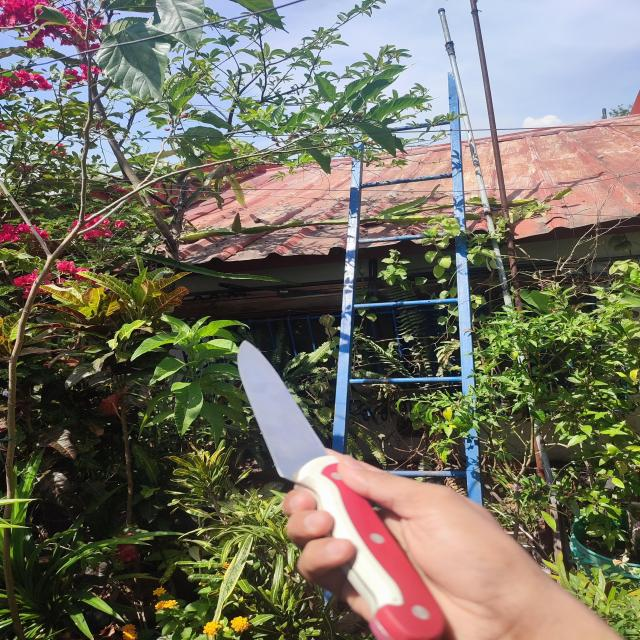knife: (236, 339, 445, 640)
